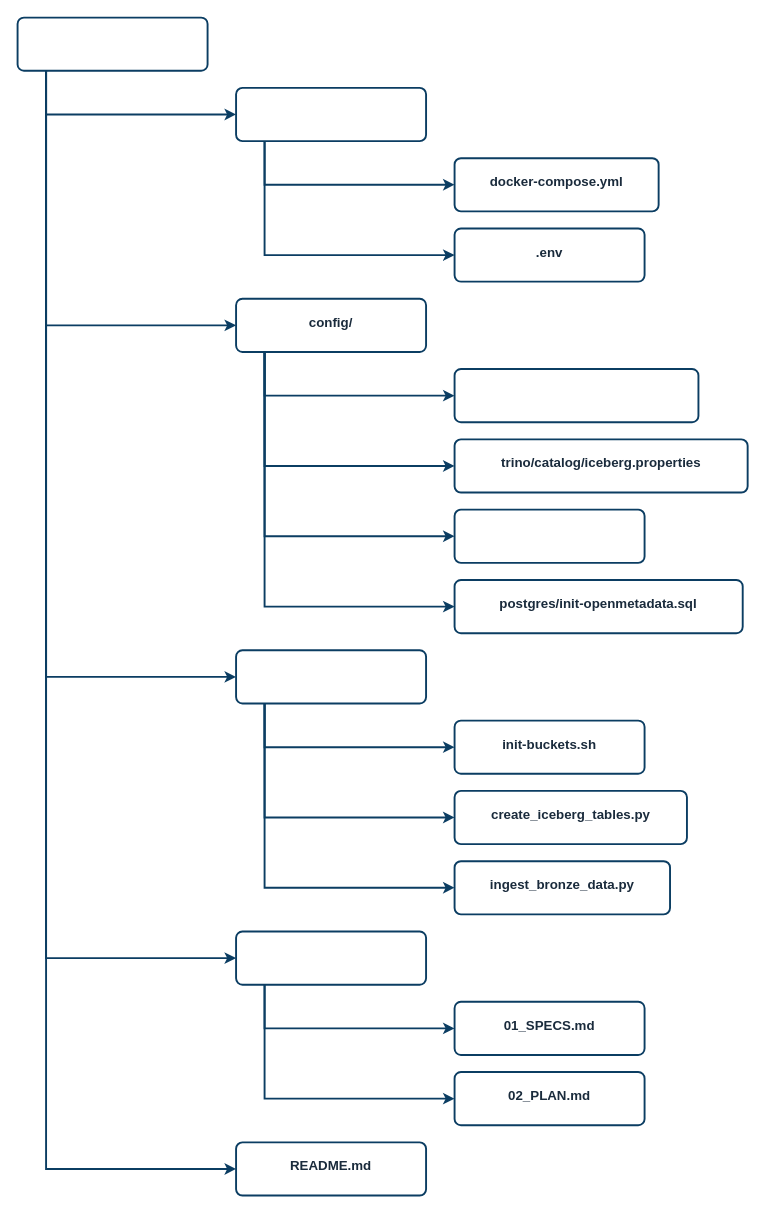
This 765x1212 diagram has some shape labels left out. Here are the shapes that lost their labels. From the top down, the box of each, then its label:
(16, 16, 208, 71): opendata/
(235, 86, 427, 142): docker/
(453, 368, 699, 423): spark/spark-defaults.conf
(453, 508, 645, 563): postgres/init.sql
(235, 649, 427, 704): scripts/
(235, 930, 427, 985): doc/
